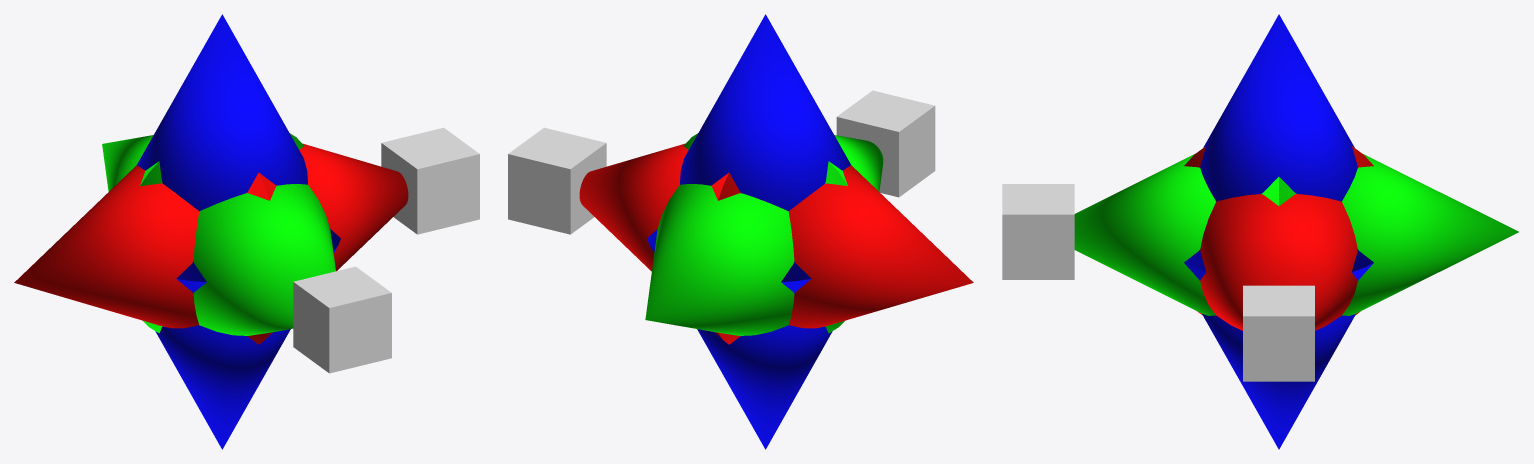
The model's file is Debug.glb.
3 renders of one model, left to right at view 1: azimuth 30°, elevation 25°; view 2: azimuth 150°, elevation 25°; view 3: azimuth 270°, elevation 25°, orthographic.
Parts seen in each view (by area): view 1: Cone.002, Cone.001, Cone, Cube, Cube.001; view 2: Cone.002, Cone.001, Cone, Cube.001, Cube; view 3: Cone, Cone.002, Cone.001, Cube, Cube.001.
Part boxes in pixels (x1=…): Cone.002: x1=137, y1=14, x2=340, y2=449; Cone.001: x1=14, y1=143, x2=408, y2=344; Cone: x1=102, y1=133, x2=335, y2=335; Cube: x1=293, y1=266, x2=391, y2=373; Cube.001: x1=381, y1=127, x2=479, y2=234; Cone.002: x1=647, y1=14, x2=850, y2=449; Cone.001: x1=579, y1=143, x2=973, y2=344; Cone: x1=645, y1=133, x2=883, y2=335; Cube.001: x1=508, y1=127, x2=606, y2=234; Cube: x1=836, y1=90, x2=935, y2=197; Cone: x1=1074, y1=153, x2=1518, y2=315; Cone.002: x1=1184, y1=14, x2=1373, y2=449; Cone.001: x1=1184, y1=146, x2=1373, y2=330; Cube: x1=1002, y1=184, x2=1074, y2=279; Cube.001: x1=1243, y1=285, x2=1314, y2=381.
Bounding box in the file's own units: 4.3 × 4 × 4.3.
